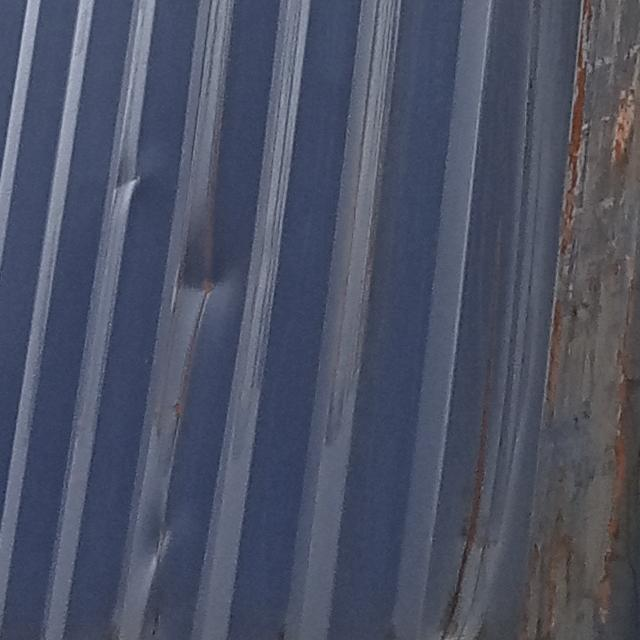dent: (401, 82, 574, 640), (169, 219, 237, 312), (94, 145, 163, 212), (131, 506, 187, 576)
